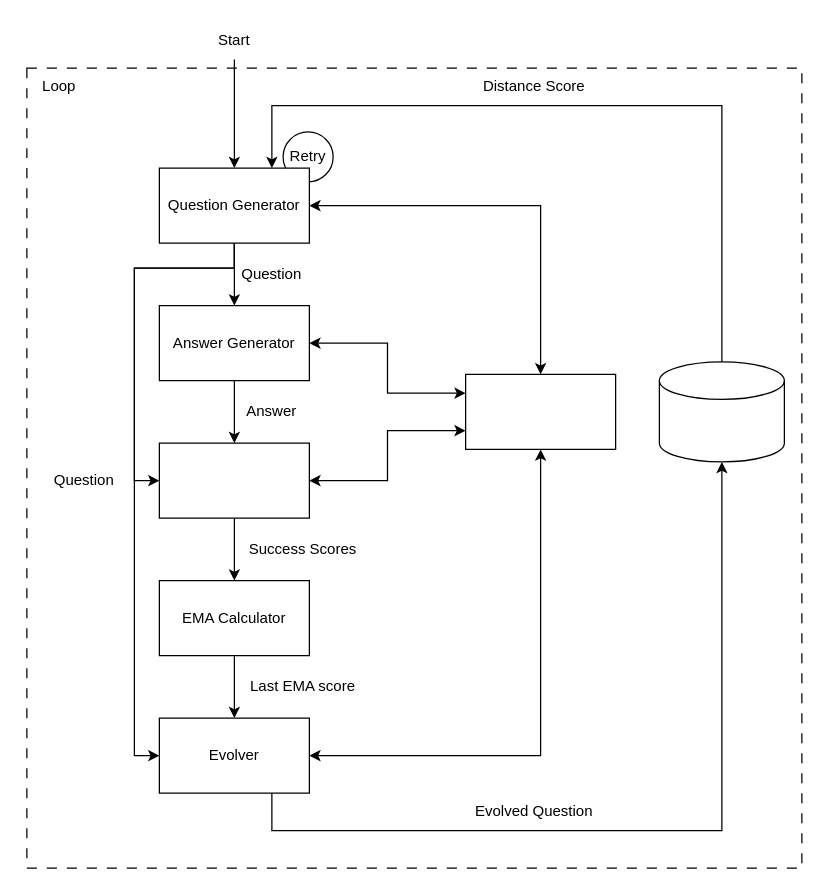
This 824x890 diagram has some shape labels left out. The shapes that lost their labels are listed below. From the top down, each one's centre as x and y in pixels, then its label:
point (540, 411): LLM
point (721, 411): Database
point (233, 480): Scorer
